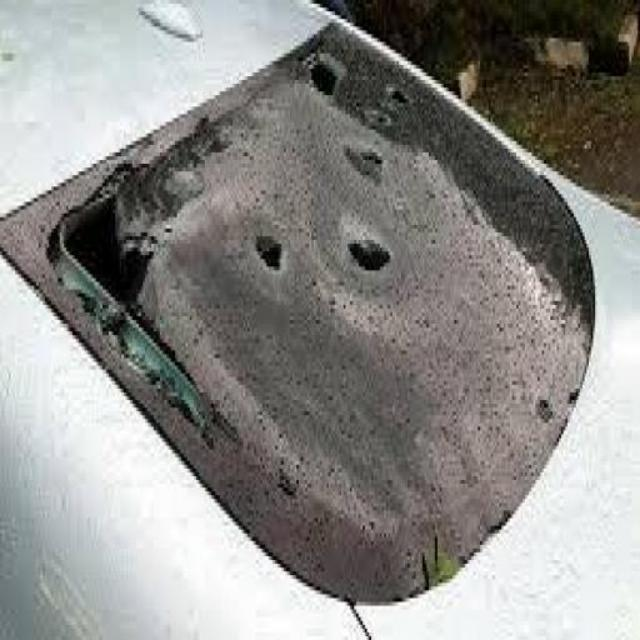glass shatter: (4, 21, 583, 597)
